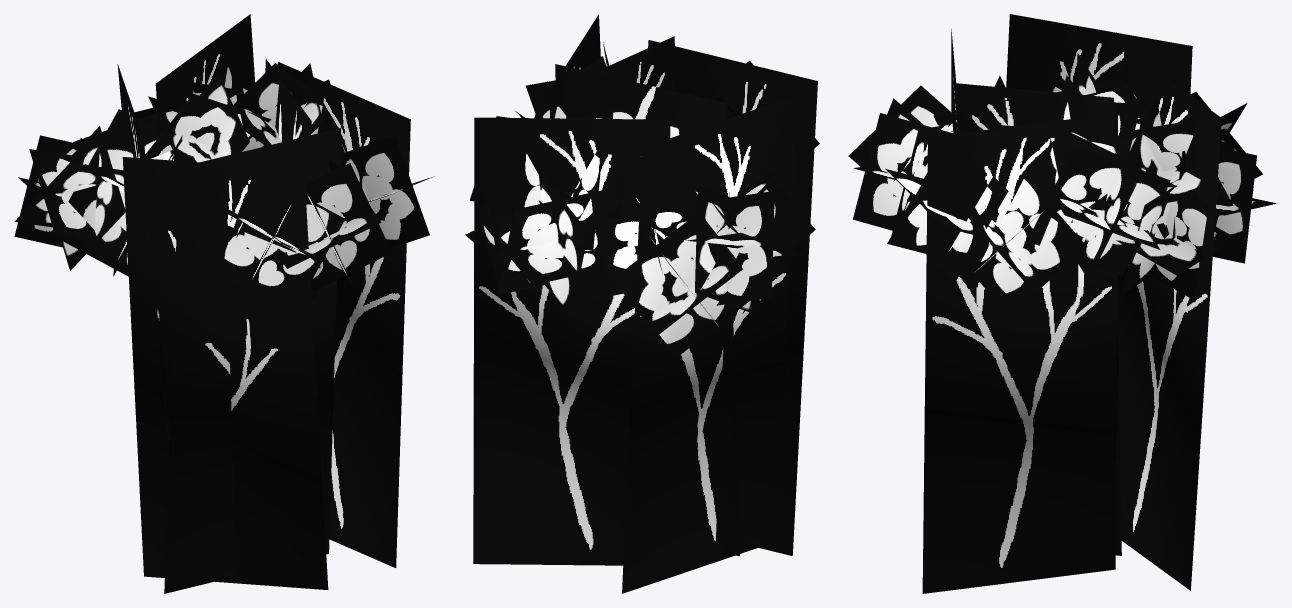
The model's file is StylisedBush2.fbx.
3 views of the same model, side by side, from view 1: azimuth 30°, elevation 25°; view 2: azimuth 150°, elevation 25°; view 3: azimuth 270°, elevation 25° (orthographic). The views are drawn at different scales.
Parts seen in each view (by area): view 1: Bush2; view 2: Bush2; view 3: Bush2.
Boxes of the visible parts, <box> form: Bush2: <box>14,14,433,593</box>; Bush2: <box>465,14,819,593</box>; Bush2: <box>848,14,1277,593</box>.
Bounding box in the file's own units: 253 × 357 × 275.
